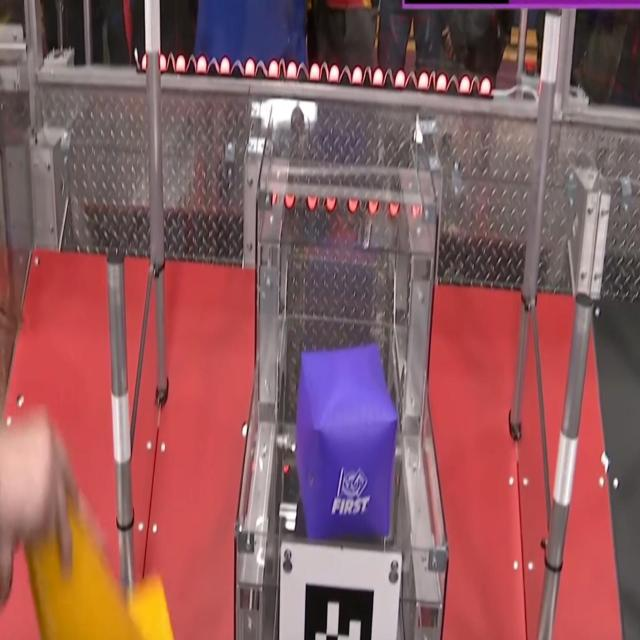frc_cone: (20, 466, 175, 640)
frc_cube: (299, 339, 401, 540)
